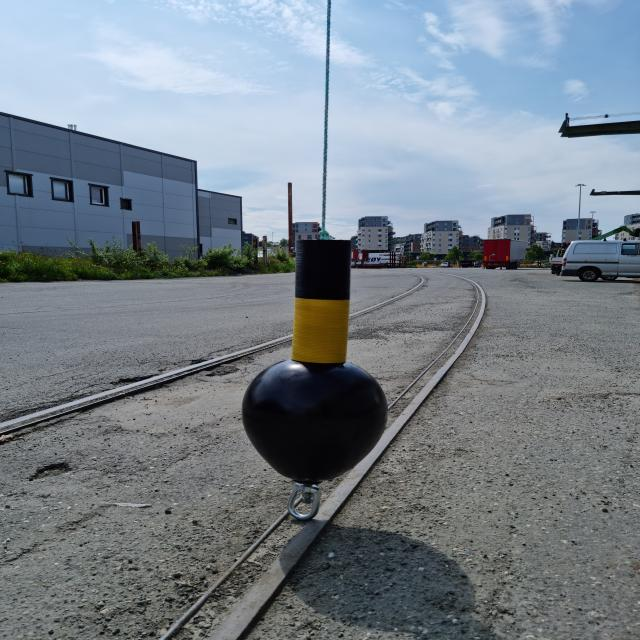east: (239, 240, 389, 482)
